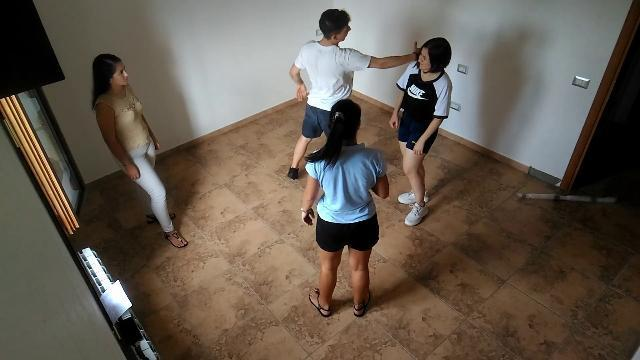non-violence: (298, 99, 392, 322), (88, 52, 190, 250)
violence: (285, 6, 455, 227)
